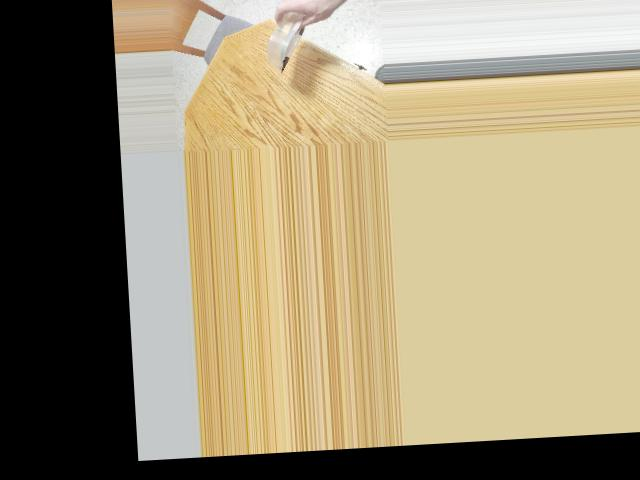cheese: (264, 8, 307, 71)
